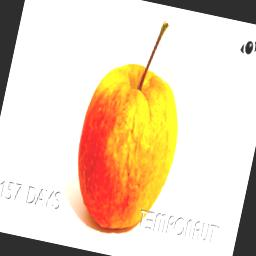Apple Overripe: (60, 0, 206, 243)
